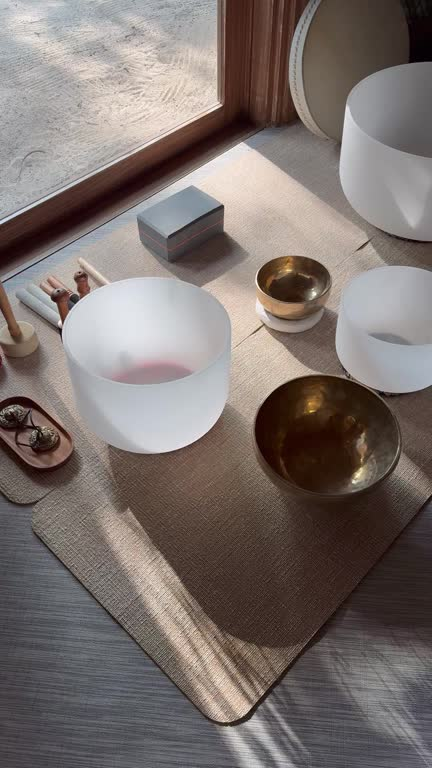Bowl: (43, 269, 245, 465), (252, 359, 408, 515), (333, 35, 432, 243), (346, 245, 432, 401), (251, 238, 337, 334)
